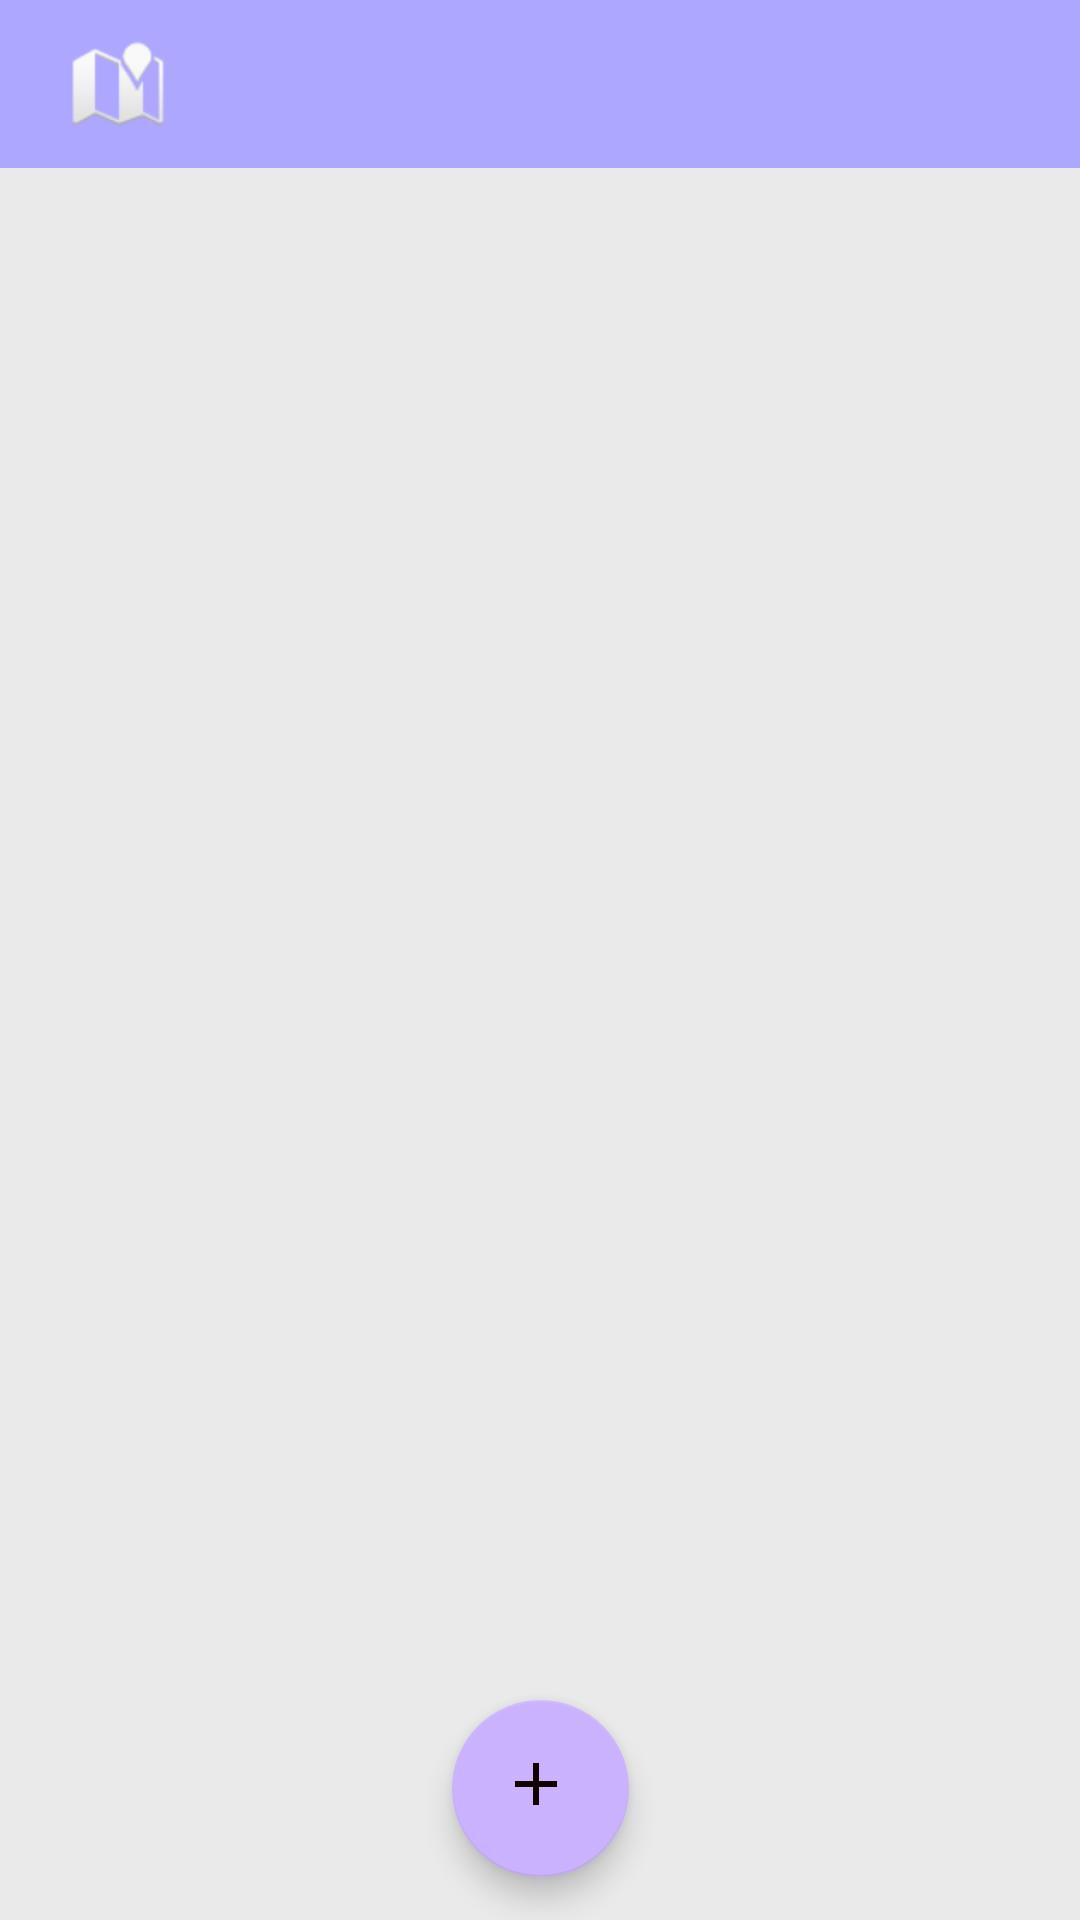

Icons on this 1080px x 1920px Android screen, each with its box as (x1, y1, x2, y2):
add: (452, 1700, 629, 1877)
map: (72, 42, 164, 126)
